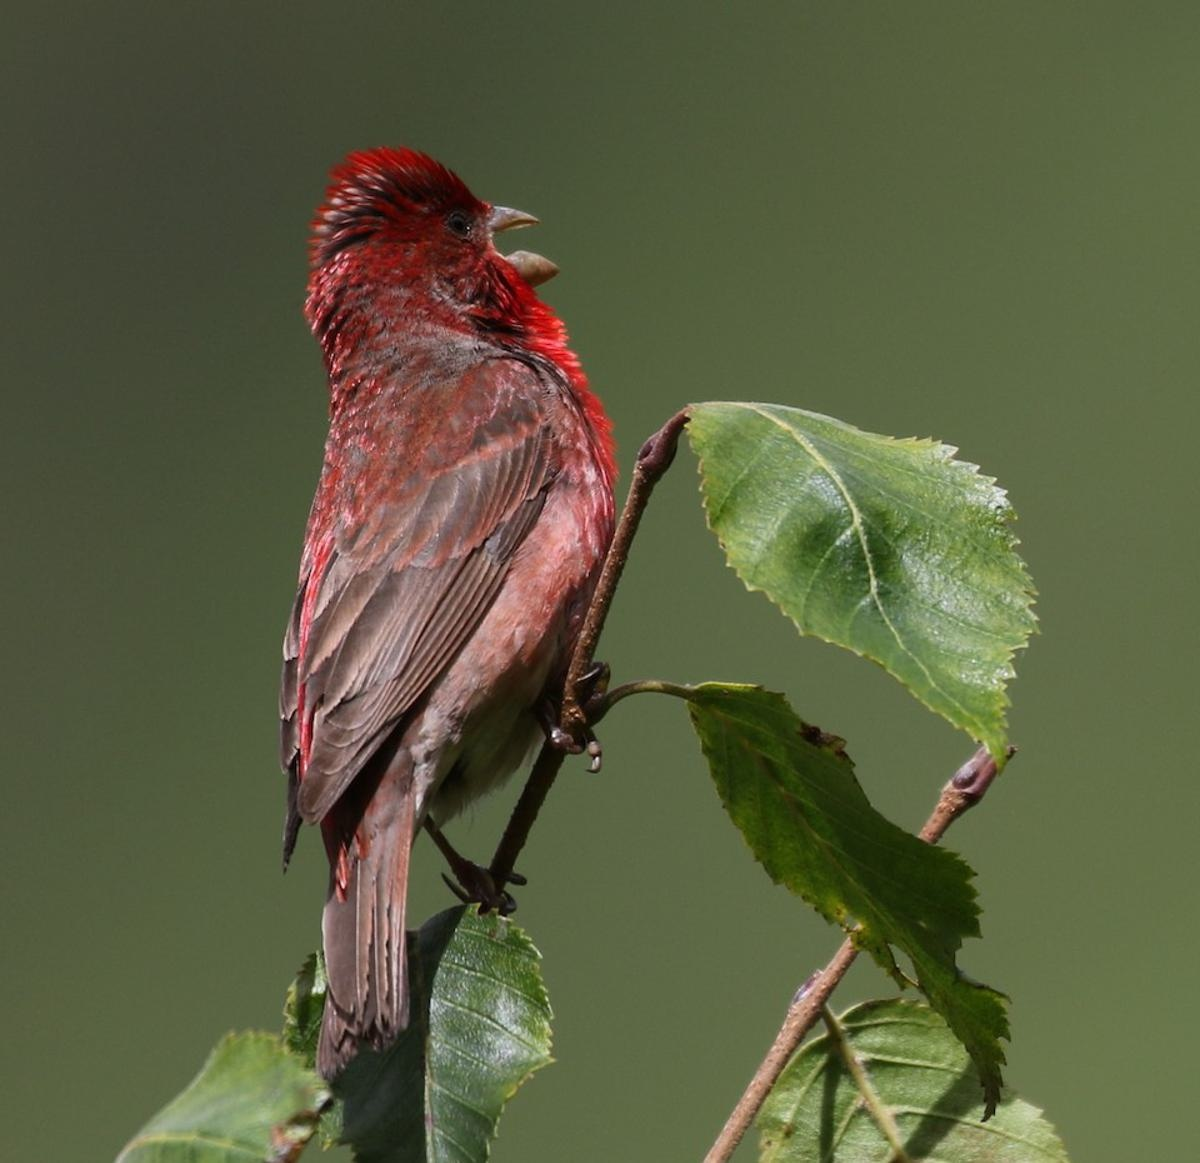rosefinch: (277, 135, 602, 988)
